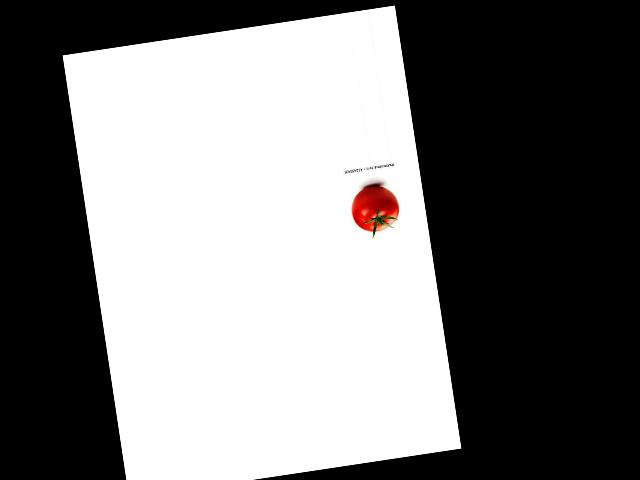tomato: (348, 182, 401, 234)
